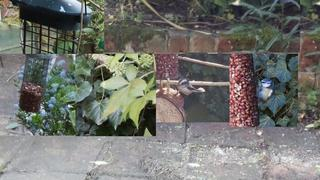blue tit: (253, 78, 274, 108)
long tailed tit: (174, 78, 206, 99)
